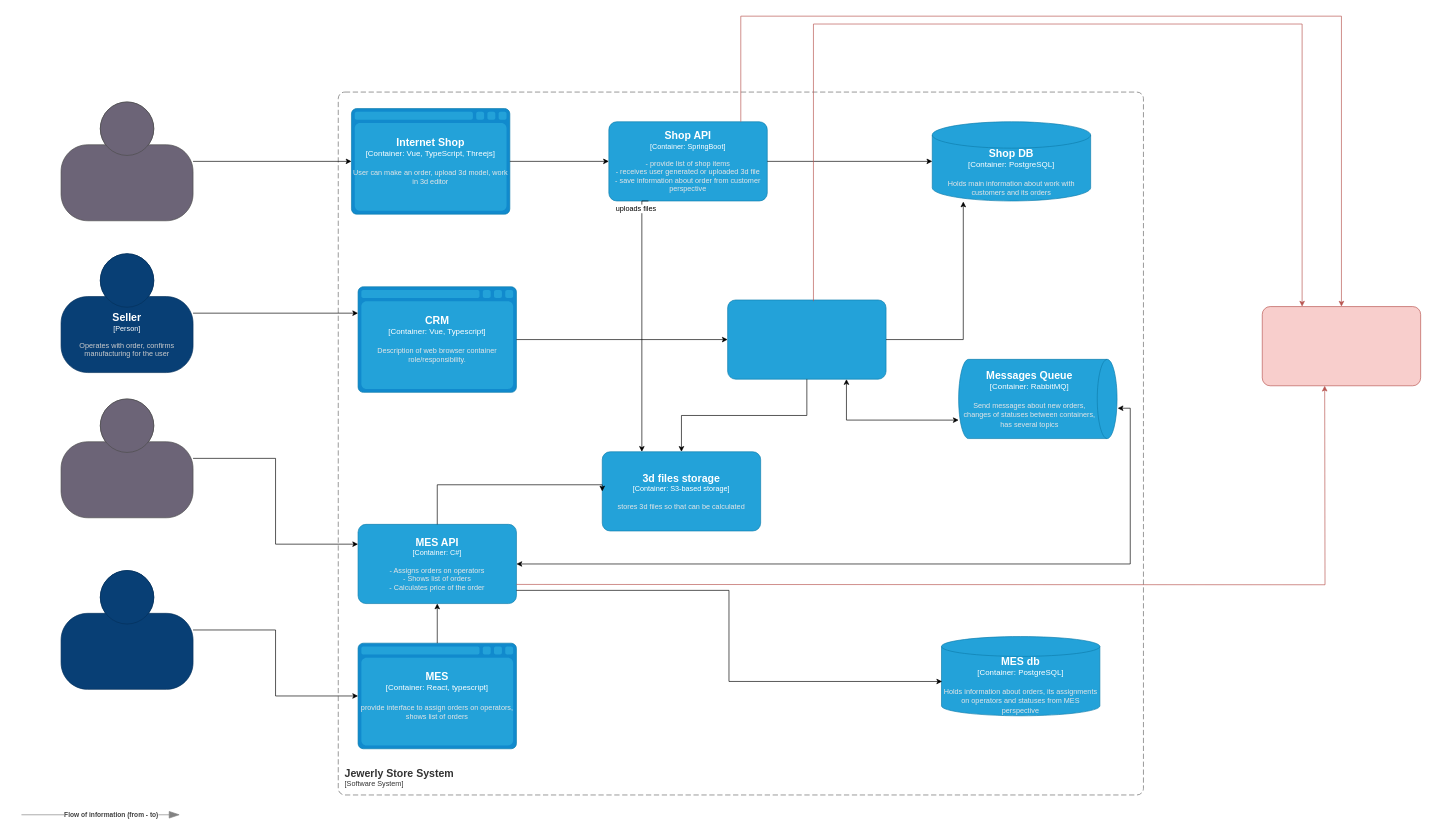
Image size: 1432x837. Some labels were removed from this diagram. The centre of each missing label's shape, as x and y in pixels:
API user [Person] Description of external person.: (x=126, y=458)
CRM API [Container: SpringBoot] Description of container role/responsibility.: (x=806, y=339)
Customer [Person] Description of external person.: (x=126, y=161)
Jaeger [Container: ] Tracing data: (x=1341, y=346)
Operator [Person] Takes order in work, manufactures jewerly: (x=126, y=629)
